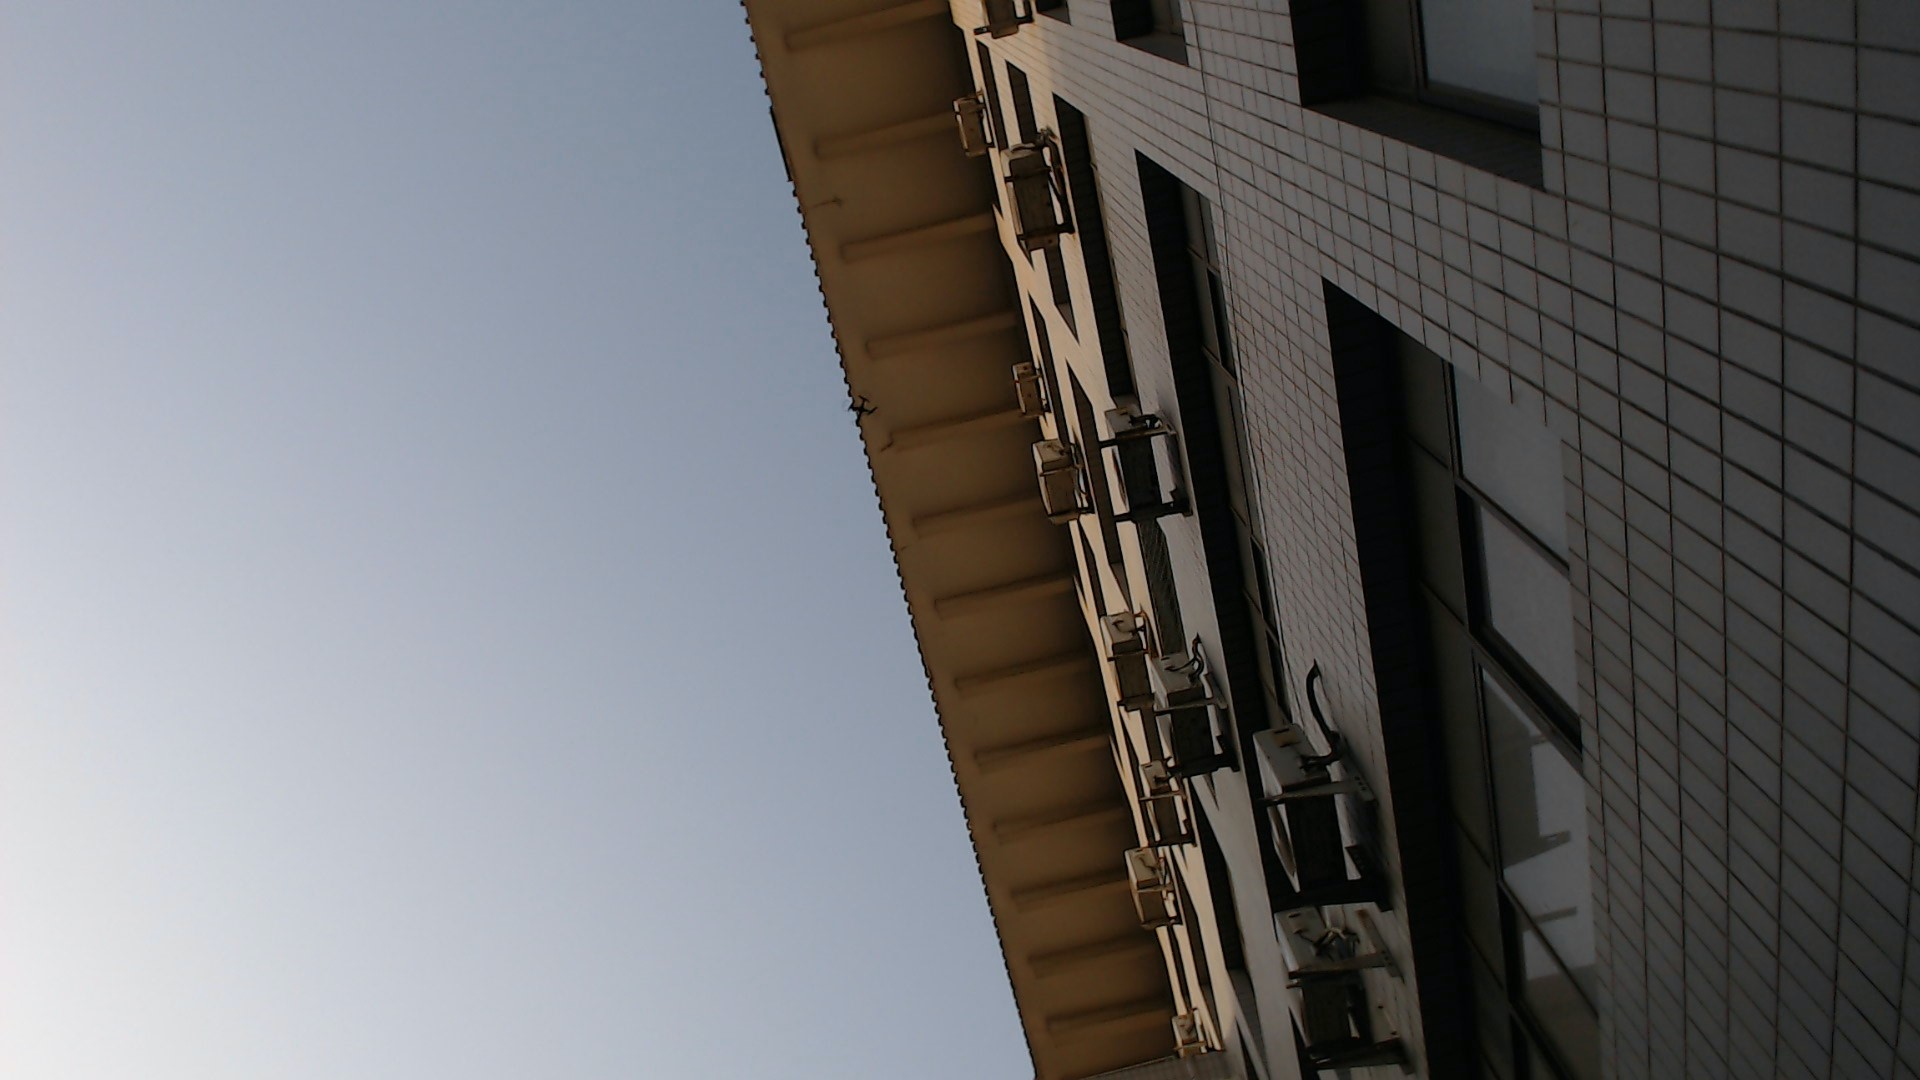drone: (843, 388, 881, 431)
